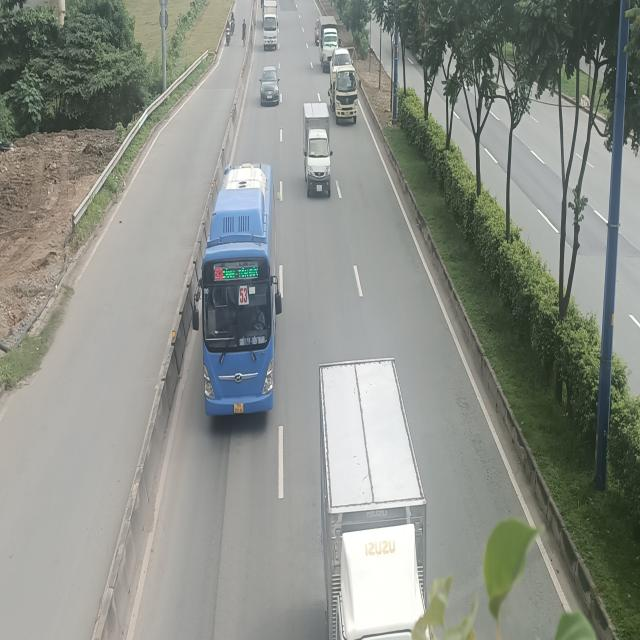car: (260, 65, 280, 104)
coach: (192, 162, 281, 415)
truck: (318, 355, 431, 640), (302, 100, 332, 198), (328, 67, 357, 124), (318, 16, 341, 72), (262, 0, 278, 51)
